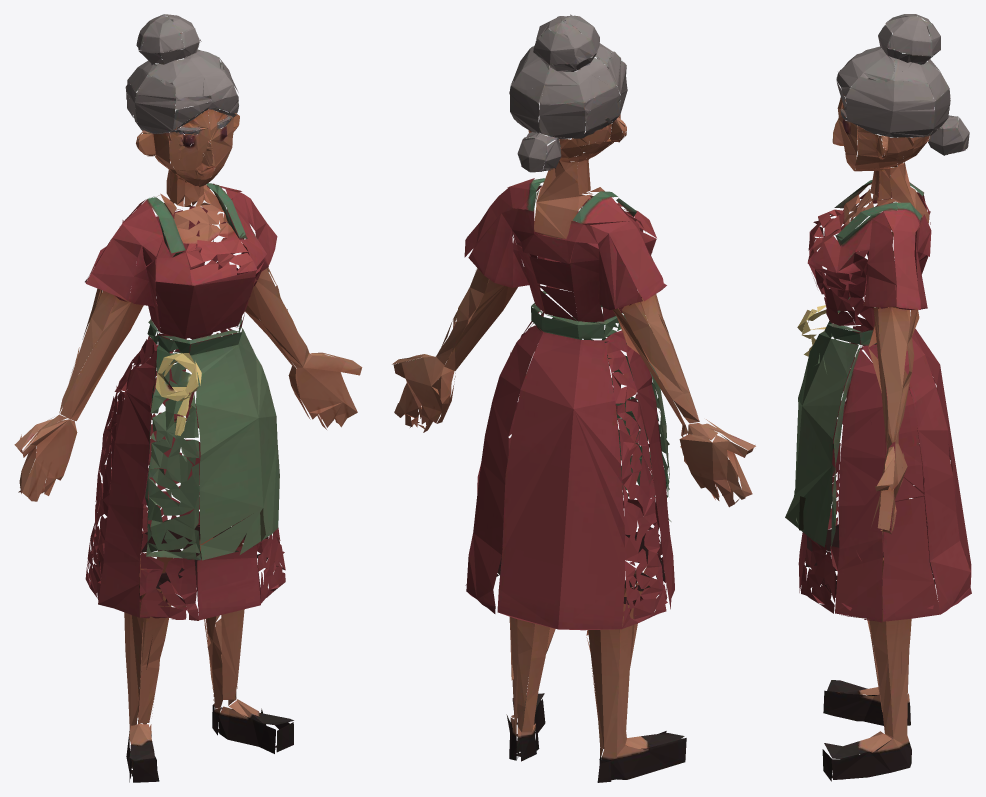
File: habitant.glb
3 renders of one model, left to right at view 1: azimuth 30°, elevation 25°; view 2: azimuth 150°, elevation 25°; view 3: azimuth 270°, elevation 25°, orthographic. The views are drawn at different scales.
Visible parts, largest first — view 1: world; view 2: world; view 3: world.
Boxes of the visible parts, x1,y1,x2,y2 form: world: [14, 14, 362, 782]; world: [392, 14, 755, 782]; world: [785, 14, 971, 781].
Bounding box in the file's own units: 0.4967 × 1.01 × 0.234.
1 material, 1 textured.
